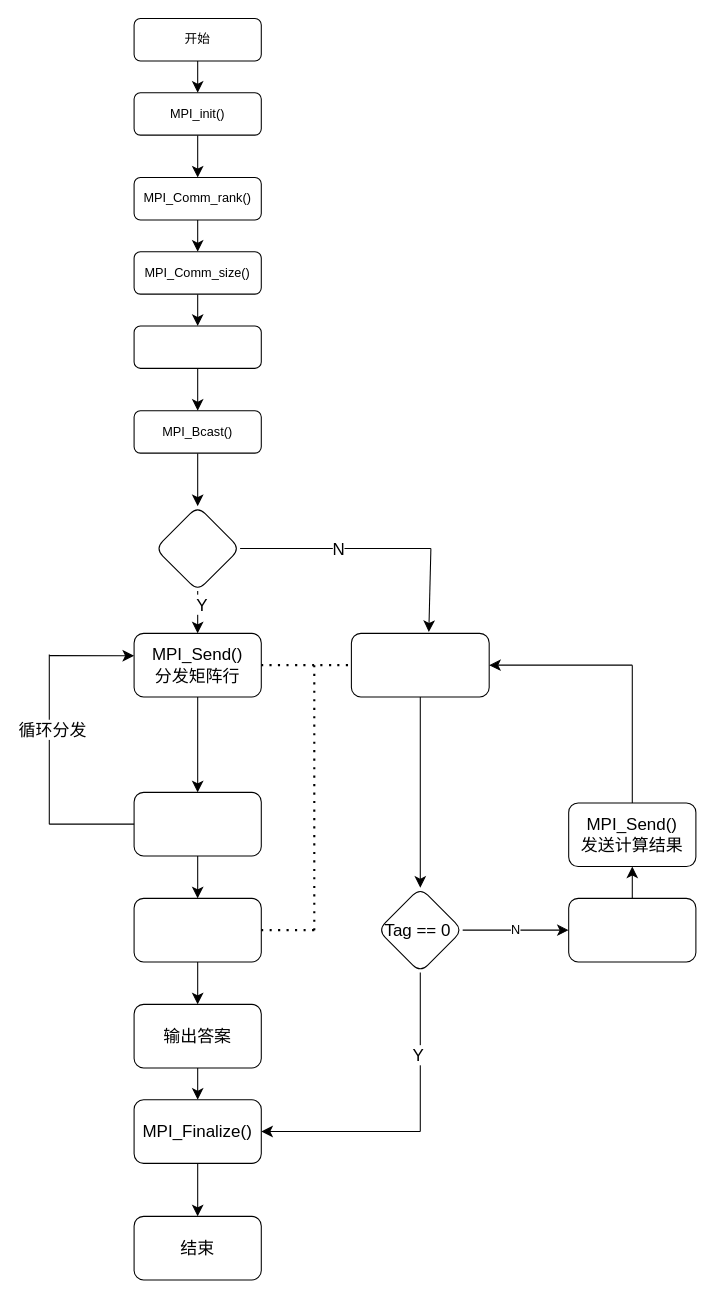
Image size: 714x1298. Some labels were removed from this diagram. Each missing label, with the centre of its shape:
"MPI_Recv() 接受0号进程信息" belongs at pixel 419 664.
"MPI_Recv() 接受计算结果" belongs at pixel 197 823.
"MPI_Sned() 通知结束" belongs at pixel 197 929.
"pthread_create() pthread_join() 多线程计算" belongs at pixel 632 929.
"rank == 0" belongs at pixel 197 548.
"矩阵读入" belongs at pixel 197 346.
